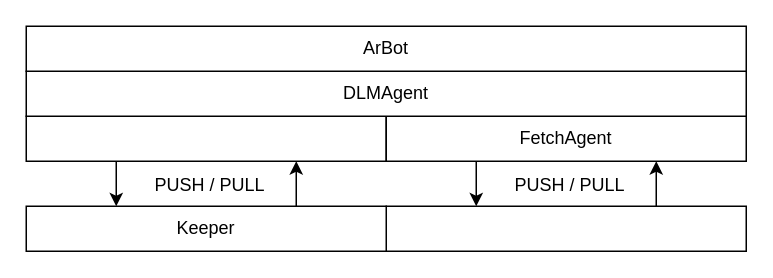
Image size: 773x278. Some labels were removed from this diagram. The shapes that lost their labels are listed below. From the top down, each one's centre as x and y in pixels, then its label:
[205,138]: OceanAgent
[565,228]: OEF
